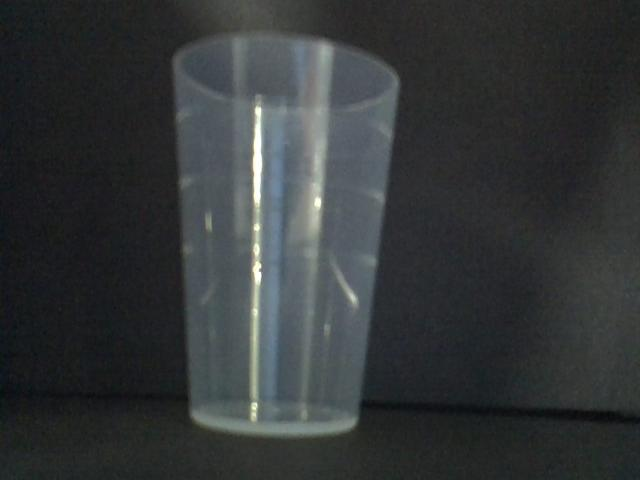cup: (170, 28, 404, 440)
